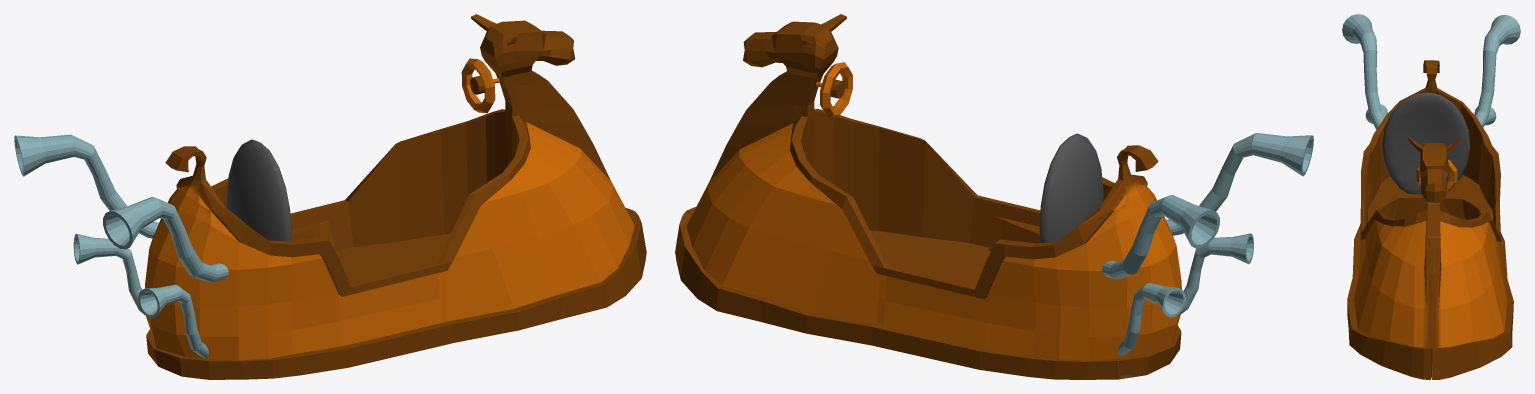
The model's file is kart_vikingo.obj.
3 views of the same model, side by side, from view 1: azimuth 30°, elevation 25°; view 2: azimuth 150°, elevation 25°; view 3: azimuth 270°, elevation 25° (orthographic). The views are drawn at different scales.
Visible parts, largest first — view 1: kart_viking_Cylinder.044_Cylinder.046; view 2: kart_viking_Cylinder.044_Cylinder.046; view 3: kart_viking_Cylinder.044_Cylinder.046.
Boxes of the visible parts, x1=… form: kart_viking_Cylinder.044_Cylinder.046: x1=14, y1=14, x2=646, y2=379; kart_viking_Cylinder.044_Cylinder.046: x1=675, y1=14, x2=1313, y2=379; kart_viking_Cylinder.044_Cylinder.046: x1=1342, y1=14, x2=1520, y2=379.
Bounding box in the file's own units: 10.31 × 4.37 × 3.71.
